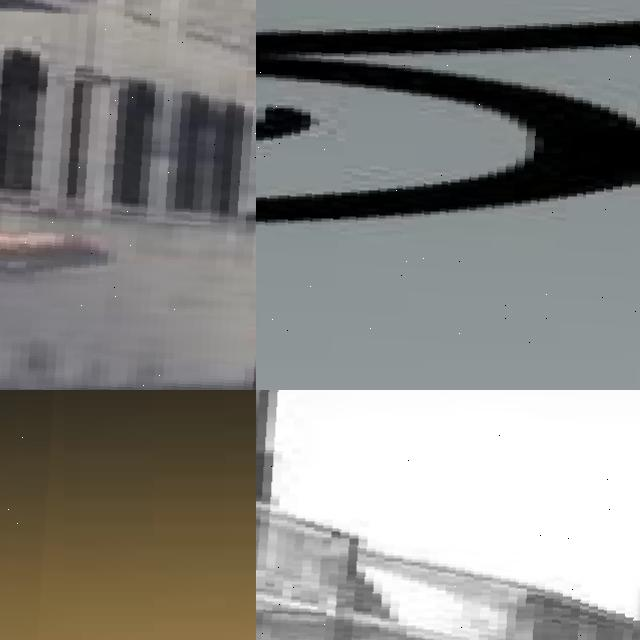street light: (256, 0, 640, 357), (0, 0, 256, 390), (256, 390, 640, 640), (0, 390, 63, 640)
